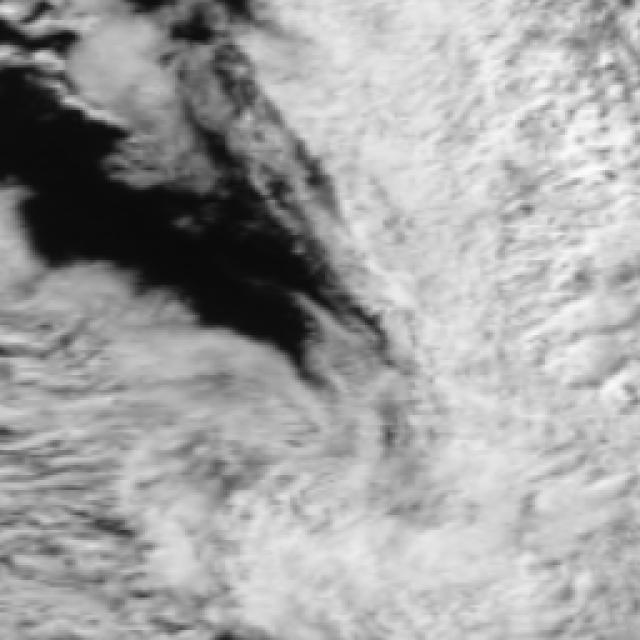CB: (356, 1, 538, 278), (275, 530, 549, 640)
